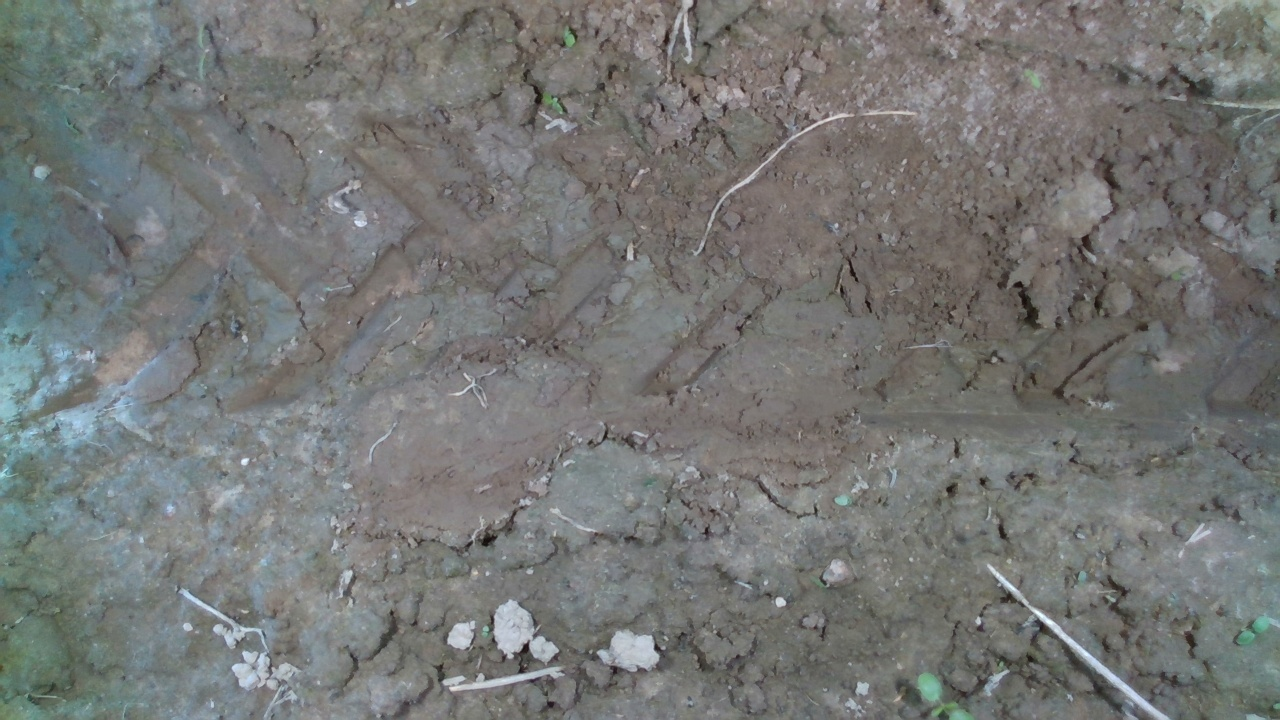weed: (1233, 614, 1270, 647), (560, 23, 578, 48)
